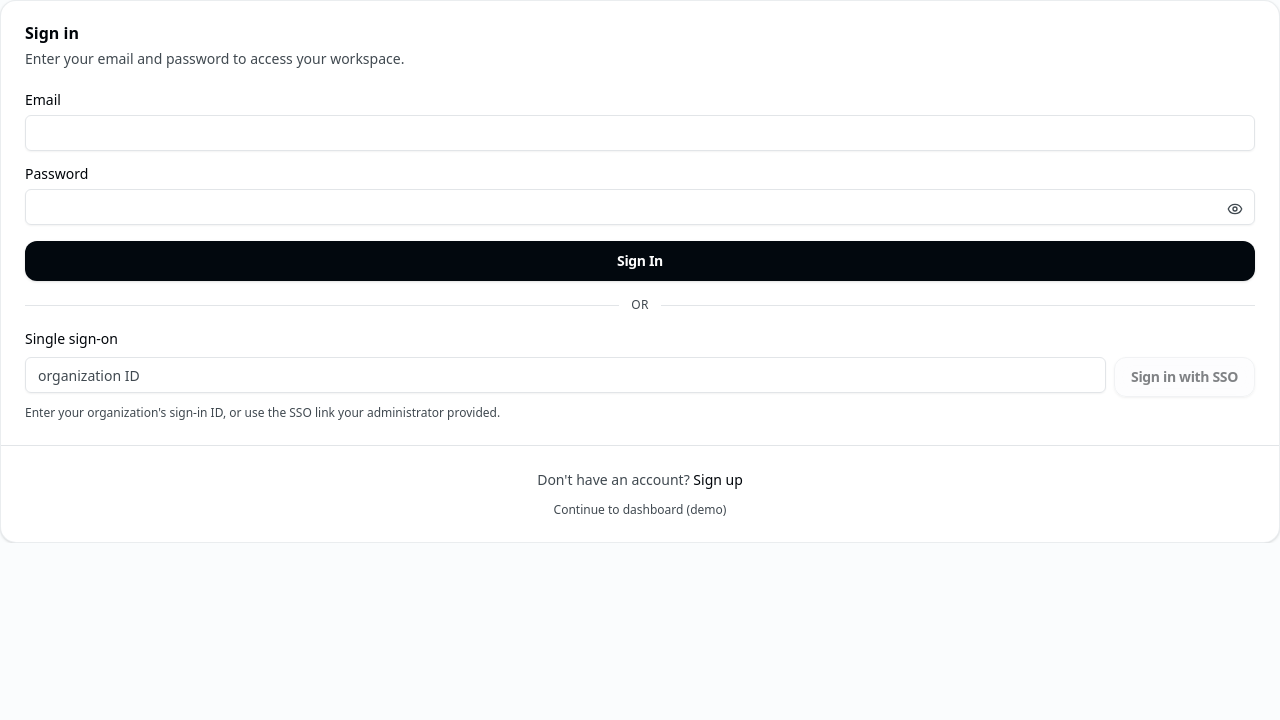
Test case: password show/hide toggle › toggles the sign-in password field between masked and visible
This screenshot has width=1280, height=720.
Click the button named "Show password": (1241, 209) top-left (1227, 189), bottom-right (1255, 229)
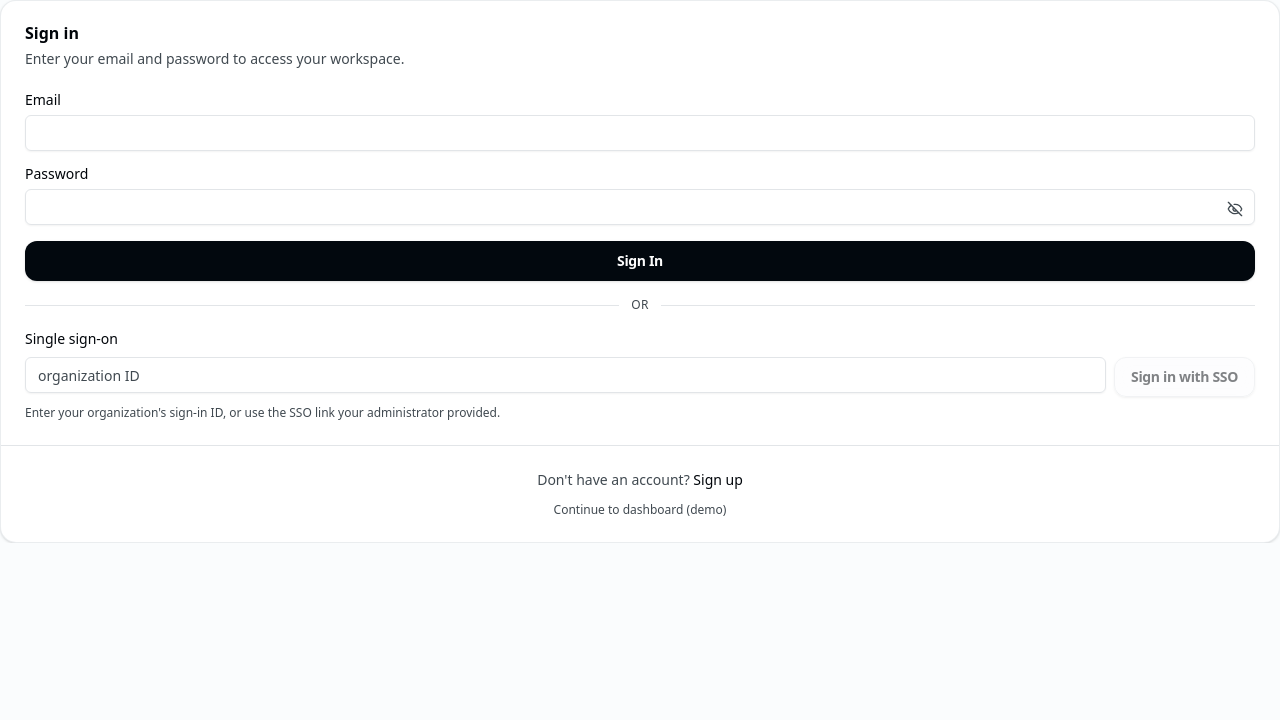
Expected: the button named "Hide password" is pressed
# Hide again — round-trips to the original state.
Click the button named "Hide password": (1241, 209) top-left (1227, 189), bottom-right (1255, 229)
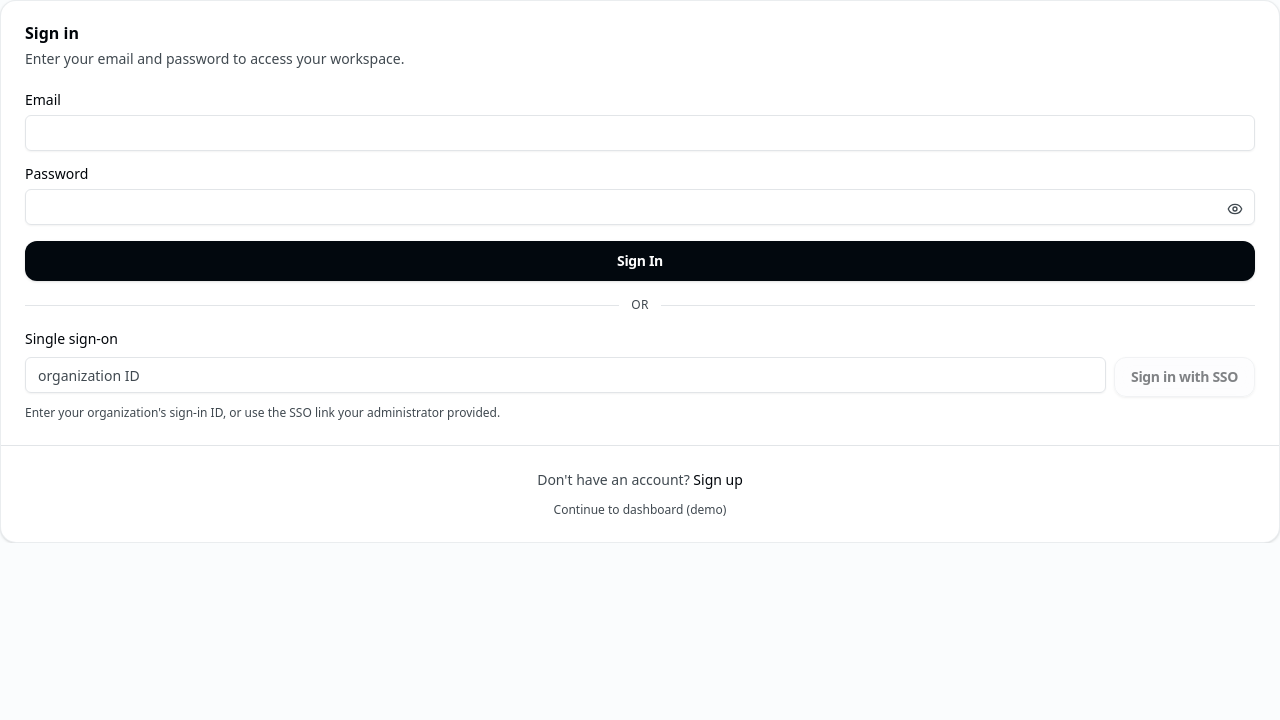
Expected: the button named "Show password" is not pressed, top-left (1227, 189), bottom-right (1255, 229)
